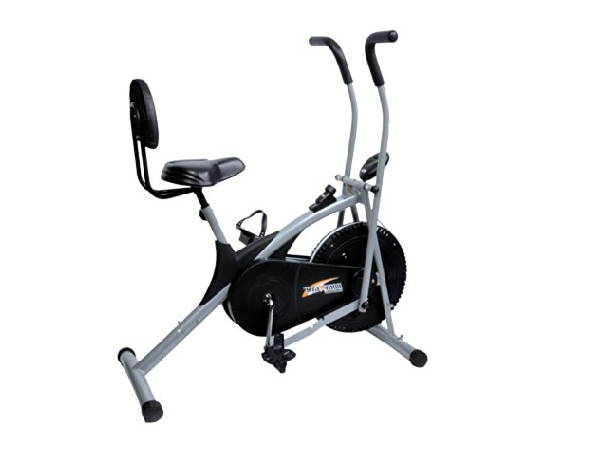gym_bike: (84, 20, 444, 430)
